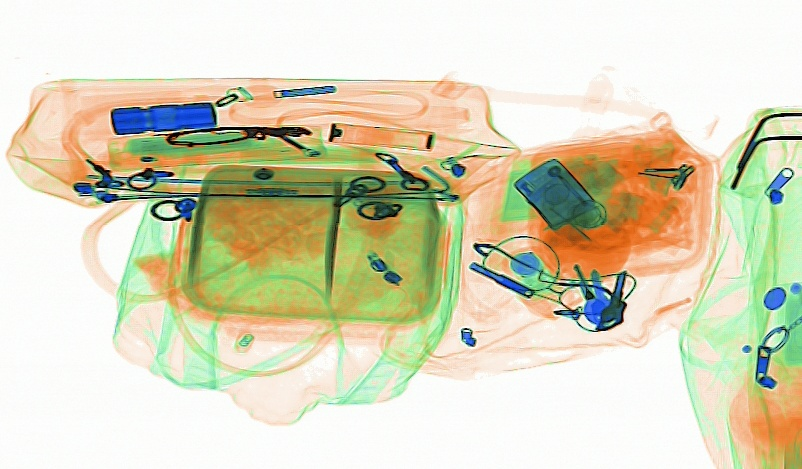lighter: (512, 156, 597, 231)
